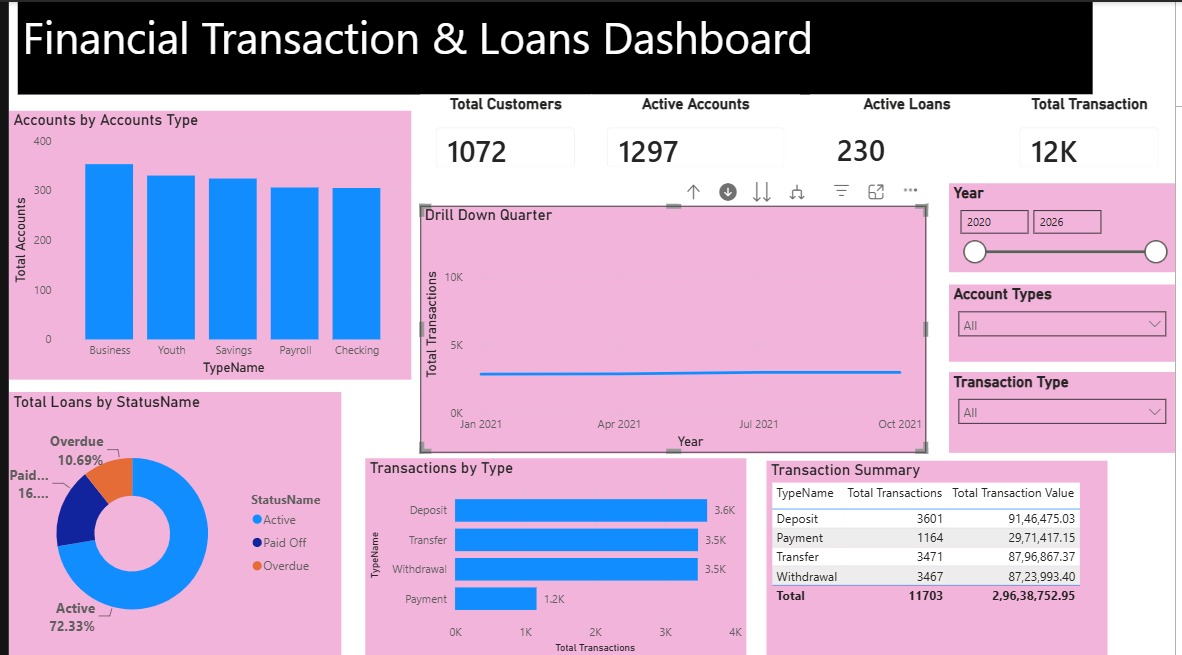

This screenshot's page, from the dashboard's own definition file:
{"tool":"powerbi","page":{"name":"Financial overview","canvas":[1280,720],"ordinal":1},"visuals":[{"type":"textbox","box":[9.6,0,1180.1,101.5],"z":0},{"type":"cardVisual","title":"Total Customers","fields":{"Data":["Customers.Total Customers"]},"box":[451.5,101.5,188,97.4],"z":1000},{"type":"cardVisual","title":"Total Transaction","fields":{"Data":["Transactions.Total Transactions"]},"box":[1092.3,101.5,188,97.4],"z":2000},{"type":"cardVisual","title":"Active Accounts","fields":{"Data":["Accounts.Active Accounts"]},"box":[639.5,101.5,229.2,97.4],"z":3000},{"type":"cardVisual","title":"Active Loans","fields":{"Data":["Loans.Active Loans"]},"box":[879.6,101.5,212.7,97.4],"z":4000},{"type":"clusteredColumnChart","title":" Accounts by Accounts Type","fields":{"Category":["Account Types.TypeName"],"Y":["Accounts.Total Accounts"]},"box":[0,119.4,441.9,295],"z":5000},{"type":"lineChart","title":"Transaction By Type","fields":{"Y":["Transactions.Total Transactions"],"Category":["Transactions.TransactionDate.Variation.Date Hierarchy.Year","Transactions.TransactionDate.Variation.Date Hierarchy.Quarter","Transactions.TransactionDate.Variation.Date Hierarchy.Month"]},"box":[451.5,223.7,555.7,271.7],"z":6000},{"type":"donutChart","fields":{"Category":["Loan statuses.StatusName"],"Y":["Loans.Total Loans"]},"box":[0,428.1,365,292.3],"z":7000},{"type":"clusteredBarChart","title":"Transactions by Type","fields":{"Category":["Transaction Types.TypeName"],"Y":["Transactions.Total Transactions"]},"box":[391.1,500.9,418.5,219.6],"z":8000},{"type":"tableEx","title":"Transaction Summary","fields":{"Values":["Transaction Types.TypeName","Transactions.Total Transactions","Transactions.Total Transaction Value"]},"box":[831.6,503.6,374.6,216.8],"z":9000},{"type":"slicer","title":"Year","fields":{"Values":["Transactions.Year"]},"box":[1031.9,199,248.4,97.4],"z":10000},{"type":"slicer","title":"Account Types","fields":{"Values":["Account Types.TypeName"]},"box":[1031.9,310.1,248.4,85.1],"z":11000},{"type":"slicer","title":"Transaction Type","fields":{"Values":["Transaction Types.TypeName"]},"box":[1031.9,406.2,248.4,89.2],"z":12000}]}

Visuals, with their boxes in screenshot pixels (x1, y1, x2, y2), scaled from the page's 1280x720 canvas onto the 1182x655 screenshot:
textbox: Rect(9, 0, 1099, 92)
"Total Customers" cardVisual: Rect(417, 92, 591, 181)
"Total Transaction" cardVisual: Rect(1009, 92, 1181, 181)
"Active Accounts" cardVisual: Rect(591, 92, 802, 181)
"Active Loans" cardVisual: Rect(812, 92, 1009, 181)
" Accounts by Accounts Type" clusteredColumnChart: Rect(0, 109, 408, 377)
"Transaction By Type" lineChart: Rect(417, 204, 930, 451)
donutChart - Loan statuses.StatusName x Loans.Total Loans: Rect(0, 389, 337, 654)
"Transactions by Type" clusteredBarChart: Rect(361, 456, 748, 654)
"Transaction Summary" tableEx: Rect(768, 458, 1114, 654)
"Year" slicer: Rect(953, 181, 1181, 270)
"Account Types" slicer: Rect(953, 282, 1181, 360)
"Transaction Type" slicer: Rect(953, 370, 1181, 451)
